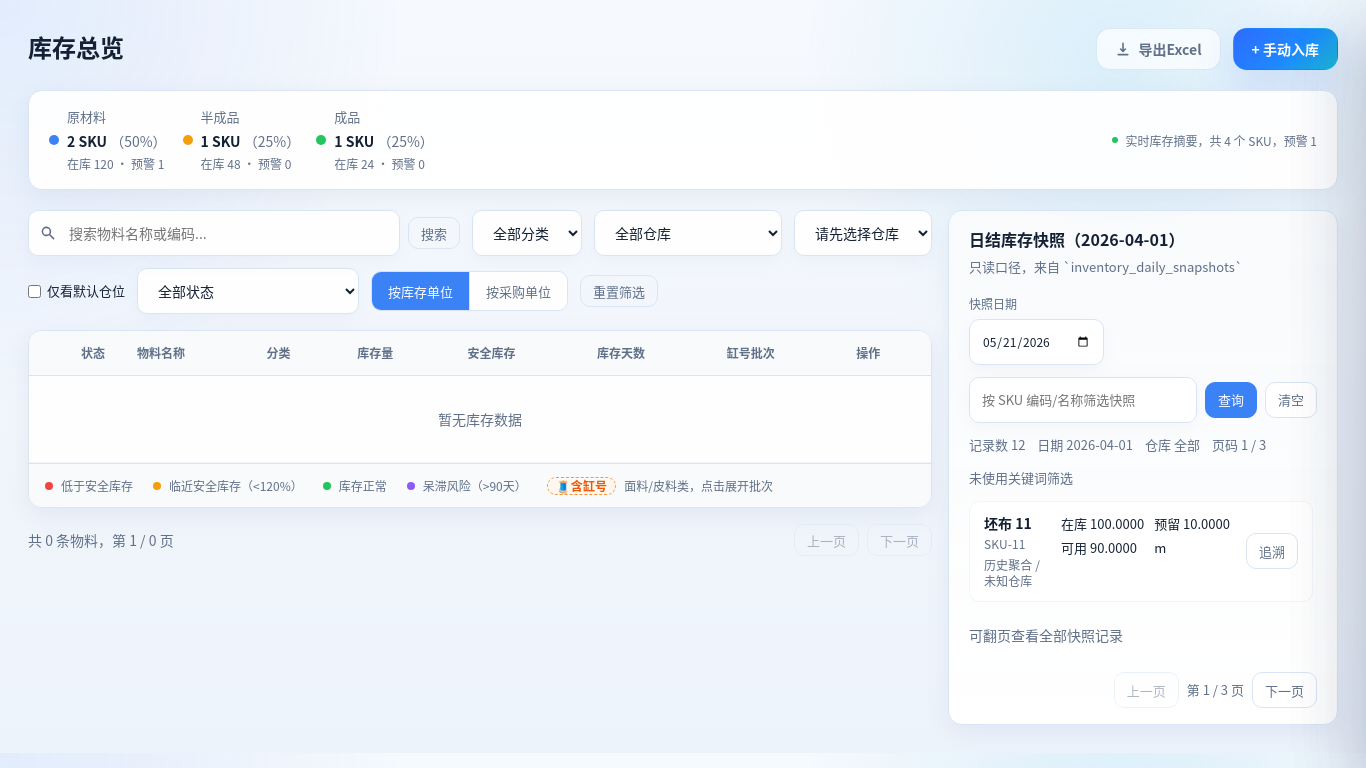
Test: InventoryPage › 手动入库未选择仓库库位时应允许提交并显示默认库位提示
The width and height of the screenshot is (1366, 768).
Click the button "+ 手动入库" at (1285, 49), box [1232,28,1338,70]
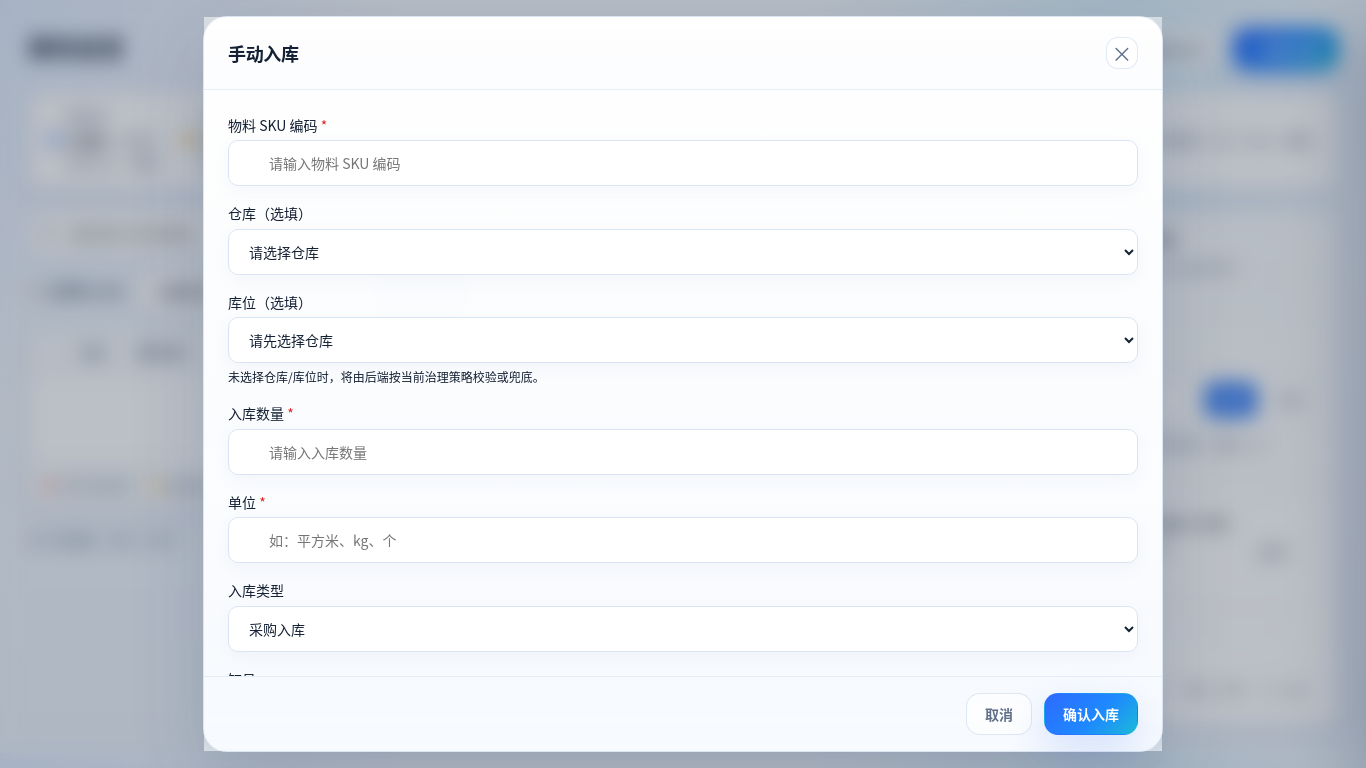
Type "SKU-11" into the field with placeholder "请输入物料 SKU 编码" at (683, 163), box [228,140,1138,186]
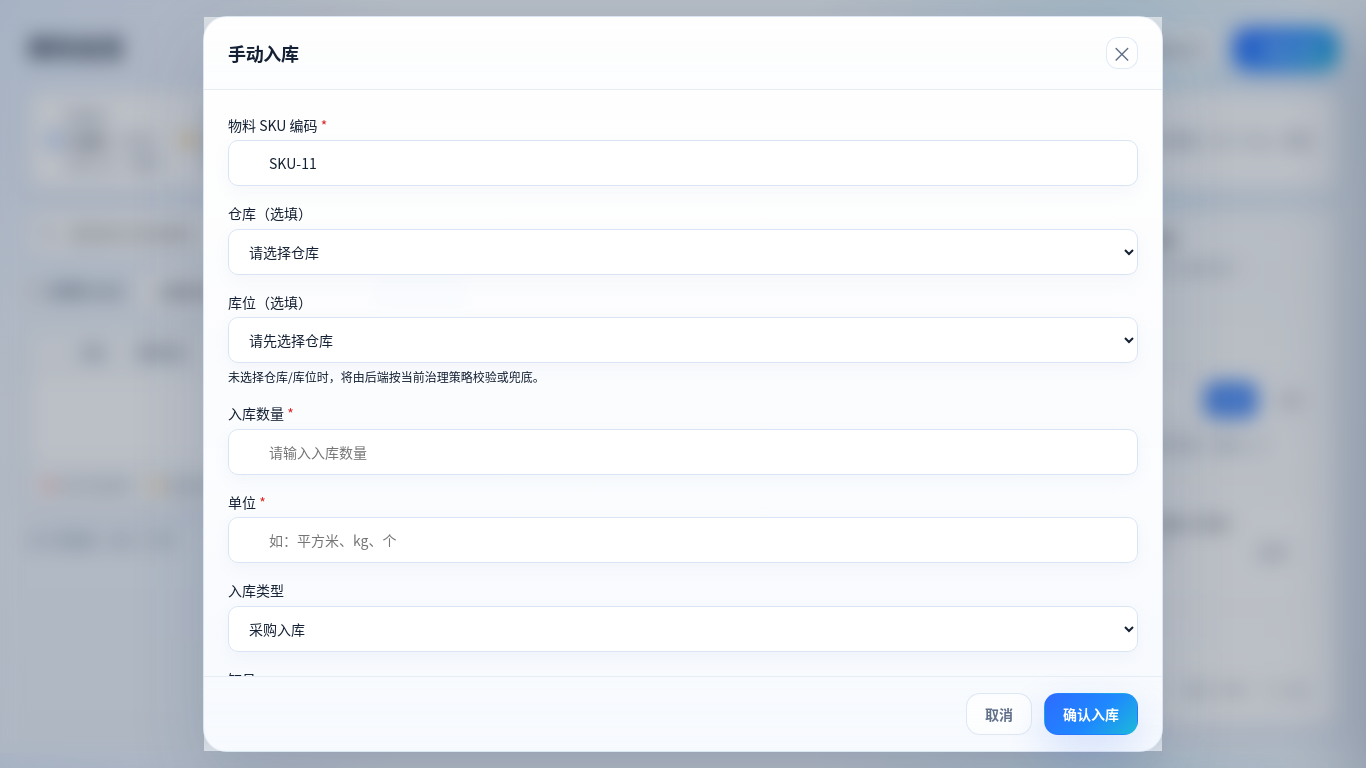
Type "8" into the number field with placeholder "请输入入库数量" at (683, 452), box [228,429,1138,475]
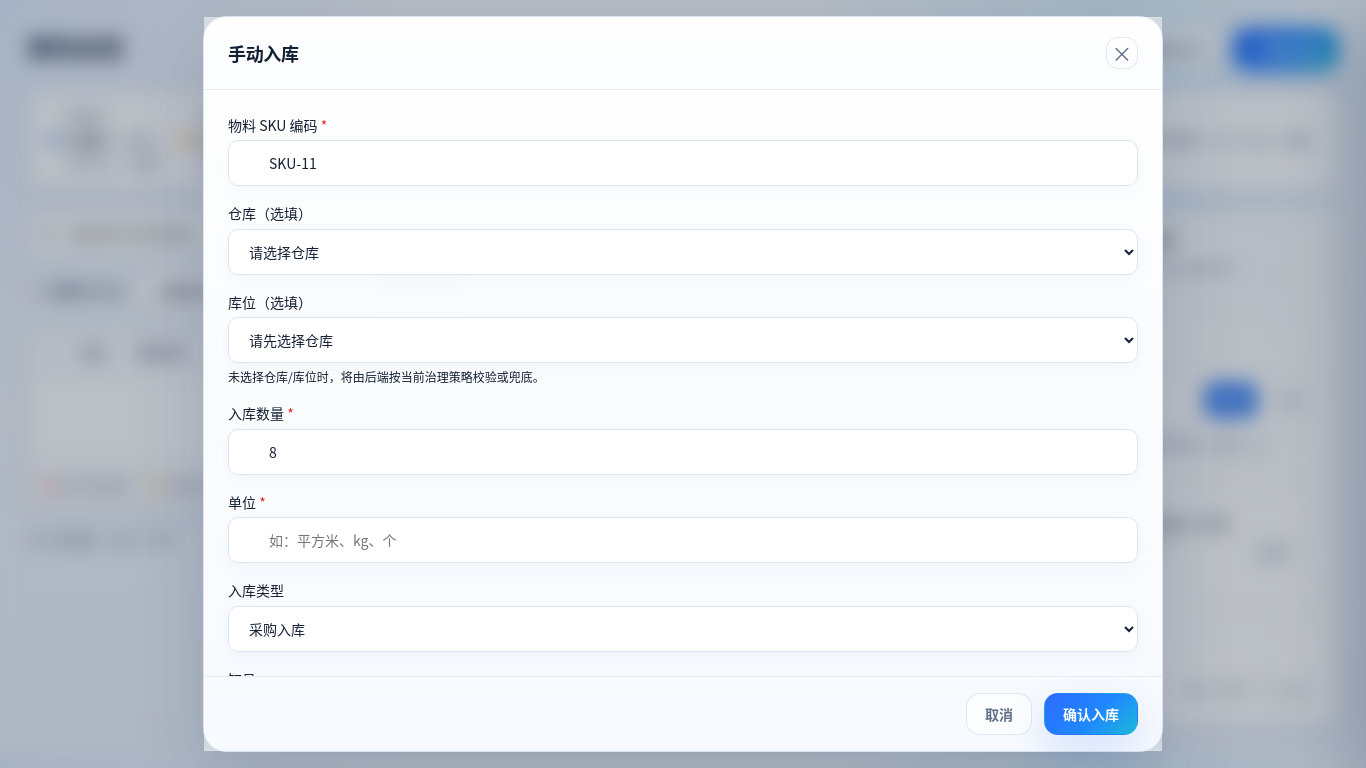
Type "m" into the field with placeholder "如：平方米、kg、个" at (683, 540), box [228,517,1138,563]
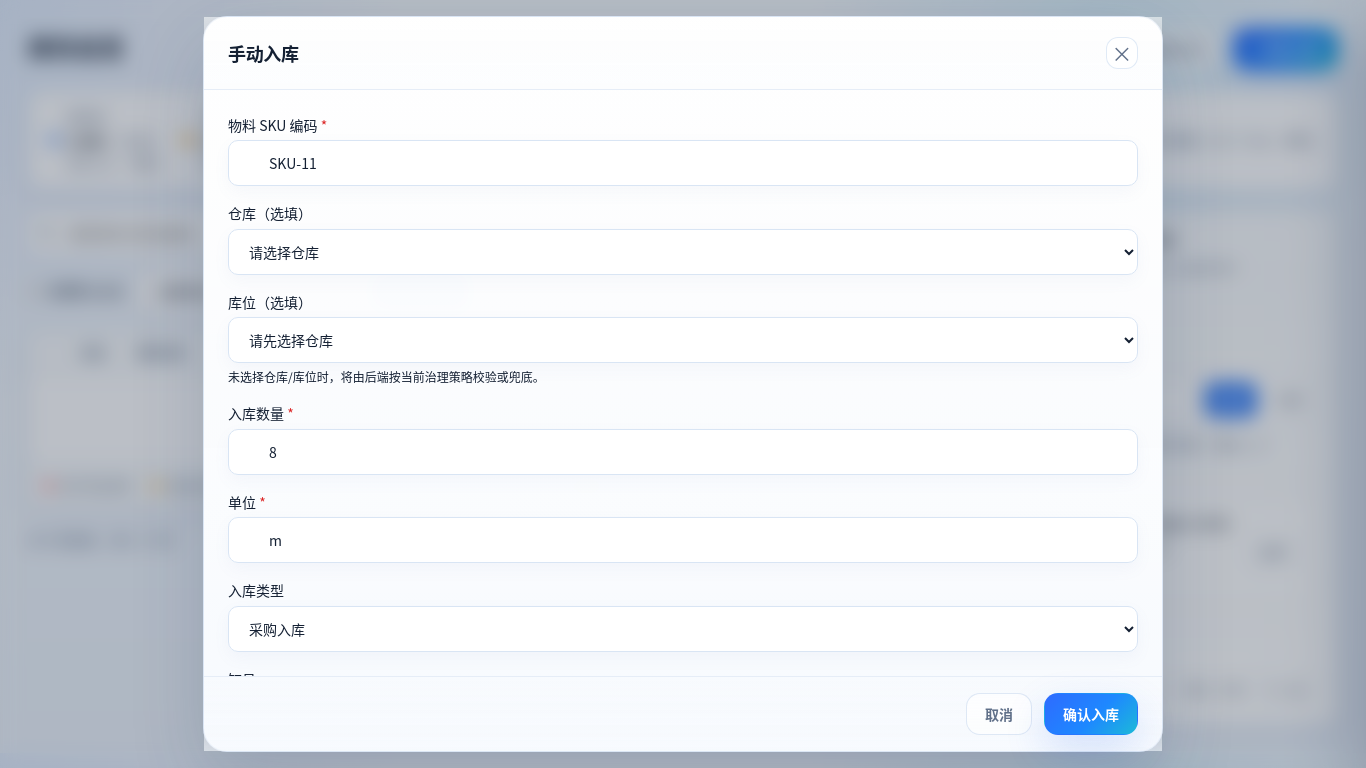
Click the button "确认入库" at (1091, 714), box [1044,693,1138,735]
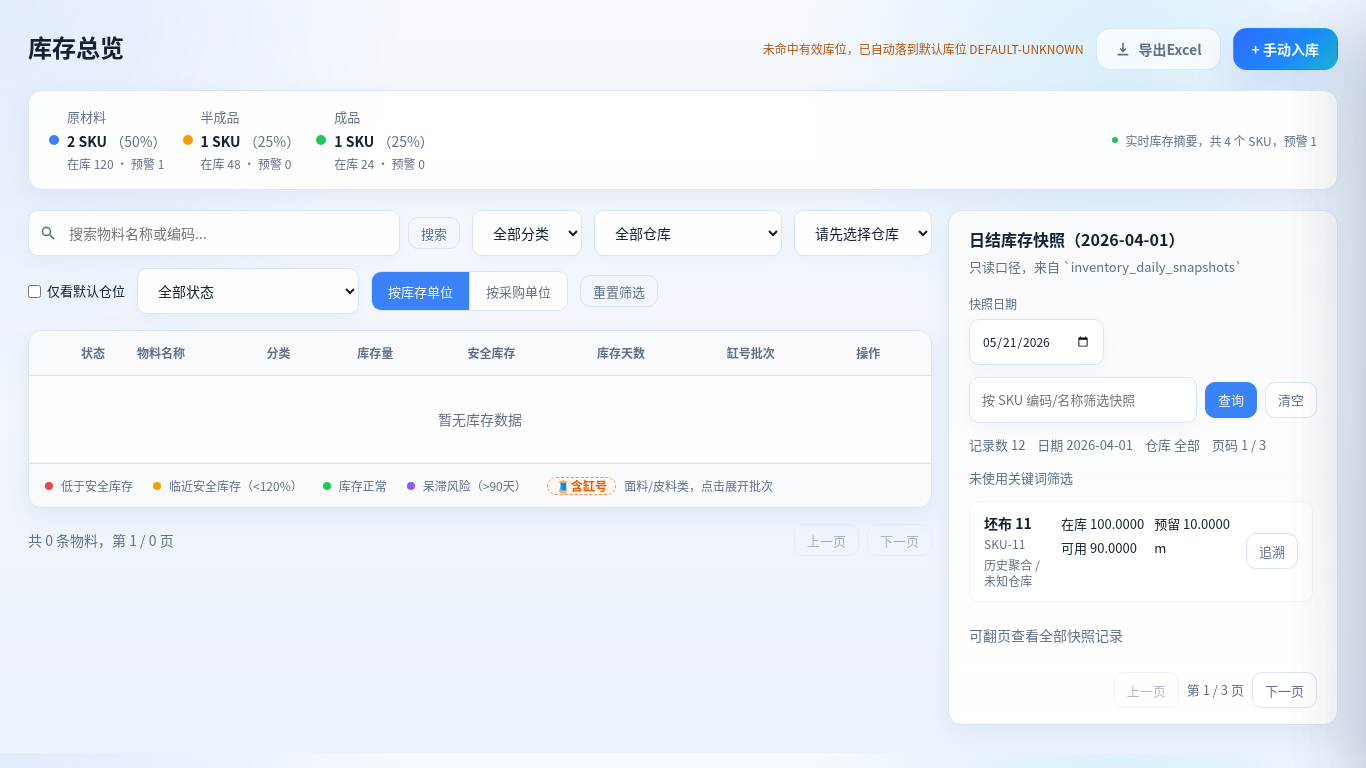
Result: the text "未命中有效库位，已自动落到默认库位 DEFAULT-UNKNOWN" is shown at [763,39,1084,59]
